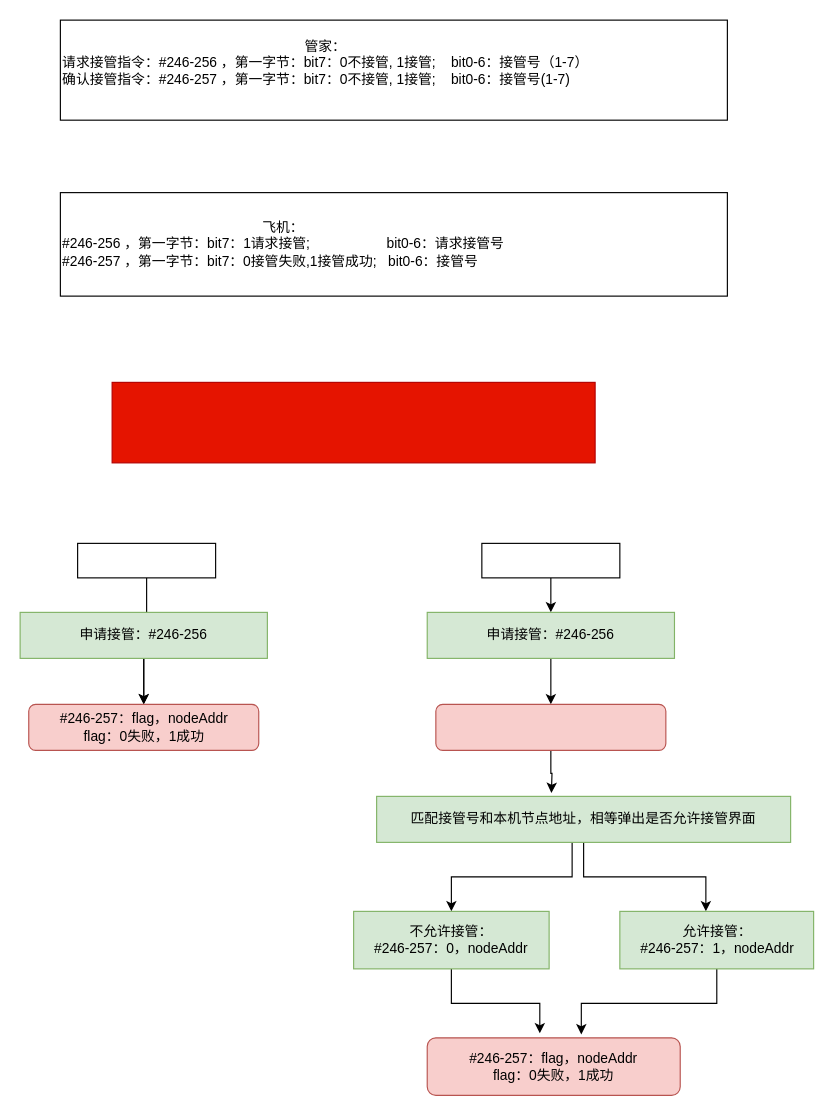
Image size: 834x1116. Some labels were removed from this diagram. The centre of each missing label's shape, as x and y in pixels:
"#246-256：1，nodeAddr" belongs at (x=550, y=726).
"注意： 1.组播数据收发数据可能存在延时性，注意超时重传时间 2.注意通过nodeAddr(bit0-bit6)判断是否是飞机发给本机的数据。" belongs at (x=353, y=422).
"飞机已接管" belongs at (x=550, y=560).
"飞机未接管" belongs at (x=146, y=560).
